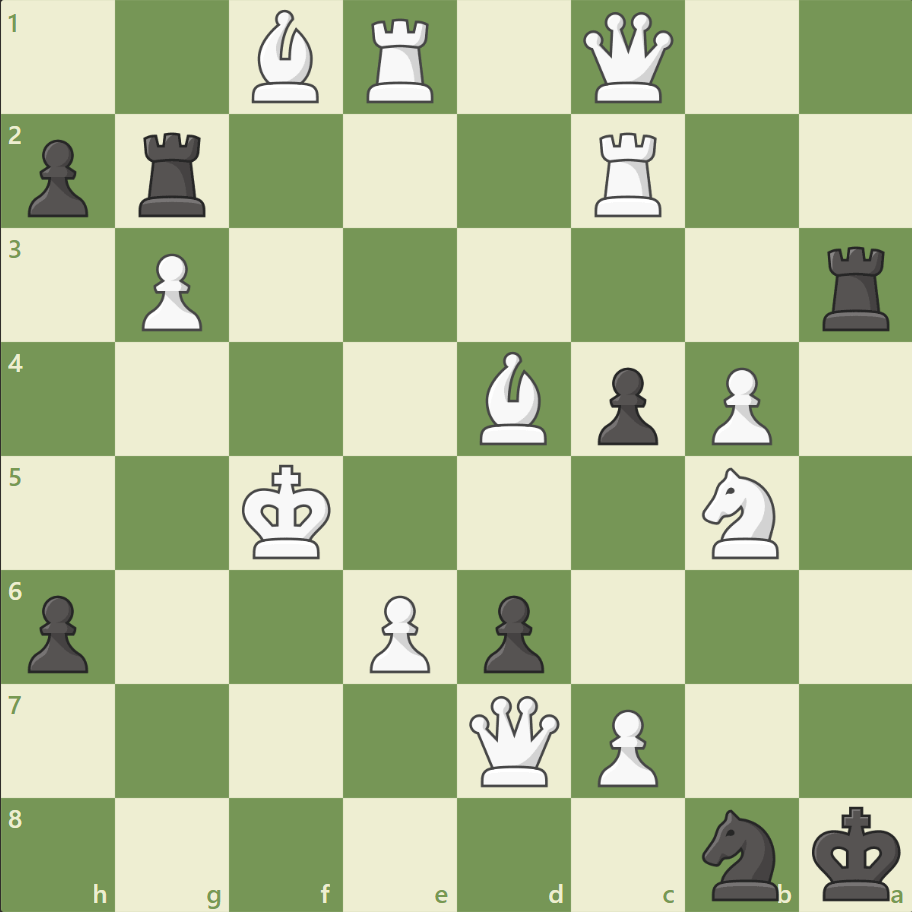B: (244, 6, 328, 109), (471, 347, 555, 449)
K: (238, 458, 338, 566)
N: (692, 461, 789, 564)
P: (701, 359, 776, 450), (133, 246, 208, 337), (588, 700, 662, 791), (361, 586, 435, 677)
Q: (464, 690, 563, 789), (578, 9, 677, 108)
R: (587, 125, 670, 222), (360, 12, 442, 109)
k: (806, 798, 906, 906)
n: (692, 802, 789, 904)
p: (474, 586, 549, 677), (20, 586, 95, 677), (20, 132, 95, 223), (588, 359, 662, 450)
r: (814, 239, 897, 336), (133, 125, 215, 222)
